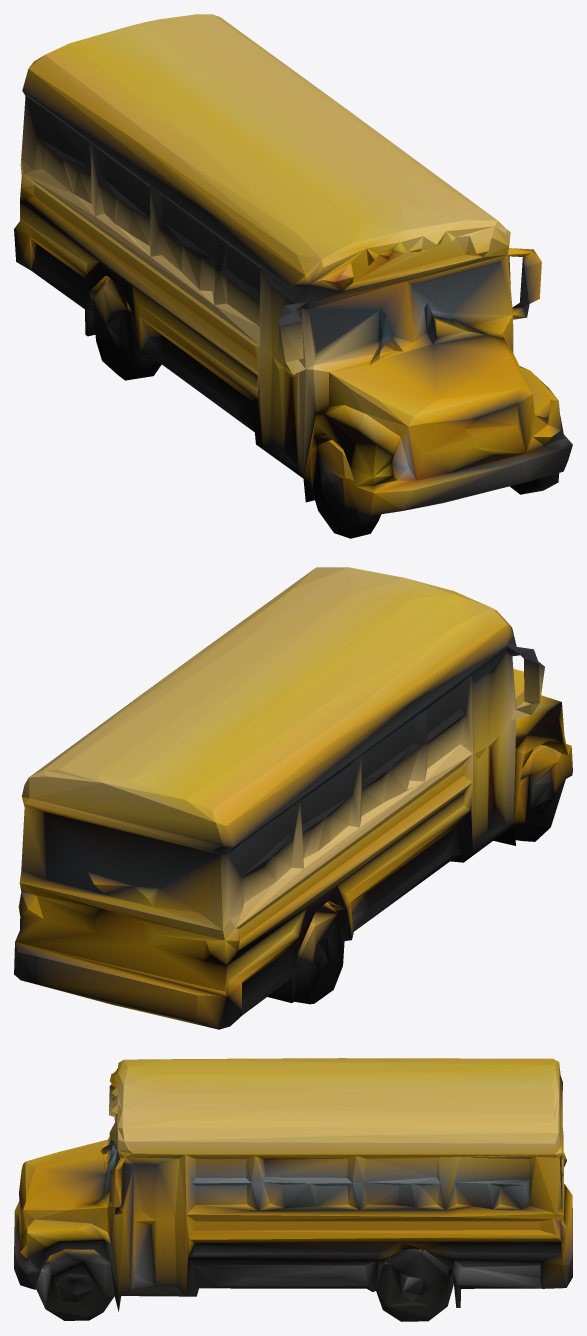
The model's file is bus.glb.
3 views of the same model, one above another, from view 1: azimuth 30°, elevation 25°; view 2: azimuth 150°, elevation 25°; view 3: azimuth 270°, elevation 25° (orthographic). The views are drawn at different scales.
Visible parts, largest first — view 1: world; view 2: world; view 3: world.
Boxes of the visible parts, x1=… form: world: x1=14, y1=14, x2=572, y2=538; world: x1=14, y1=567, x2=572, y2=1029; world: x1=14, y1=1058, x2=572, y2=1321.
Size of the model in its own units: 1.05 by 1 by 2.5.
